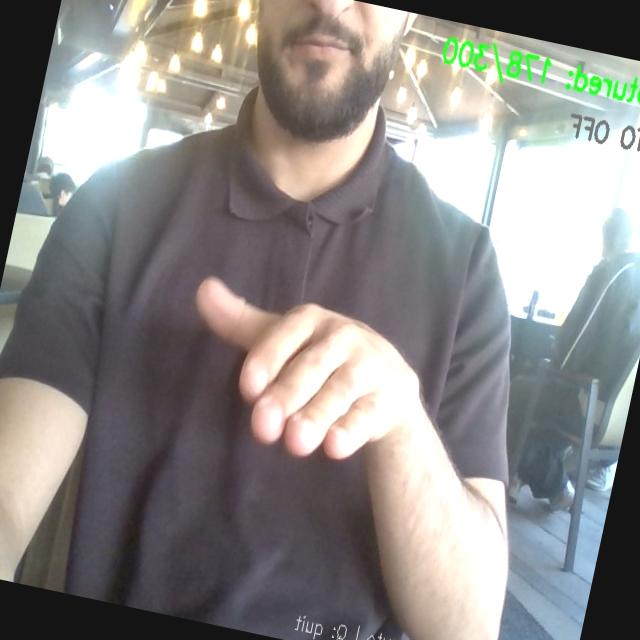Hand: (196, 278, 420, 458)
